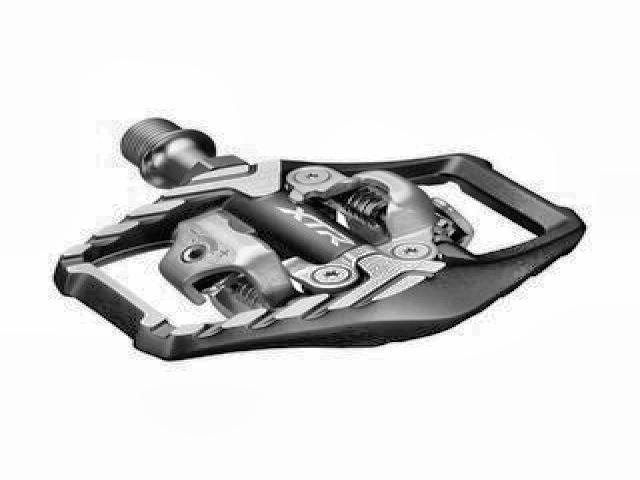pedal: (57, 113, 586, 369)
